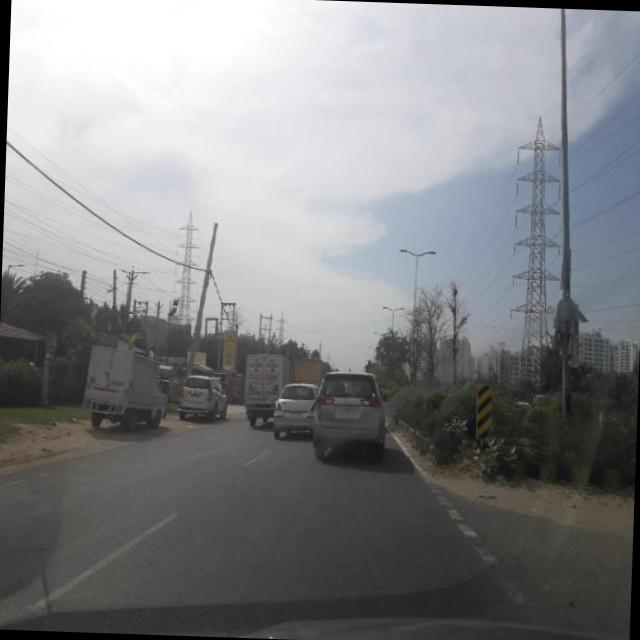crack: (19, 450, 486, 631)
